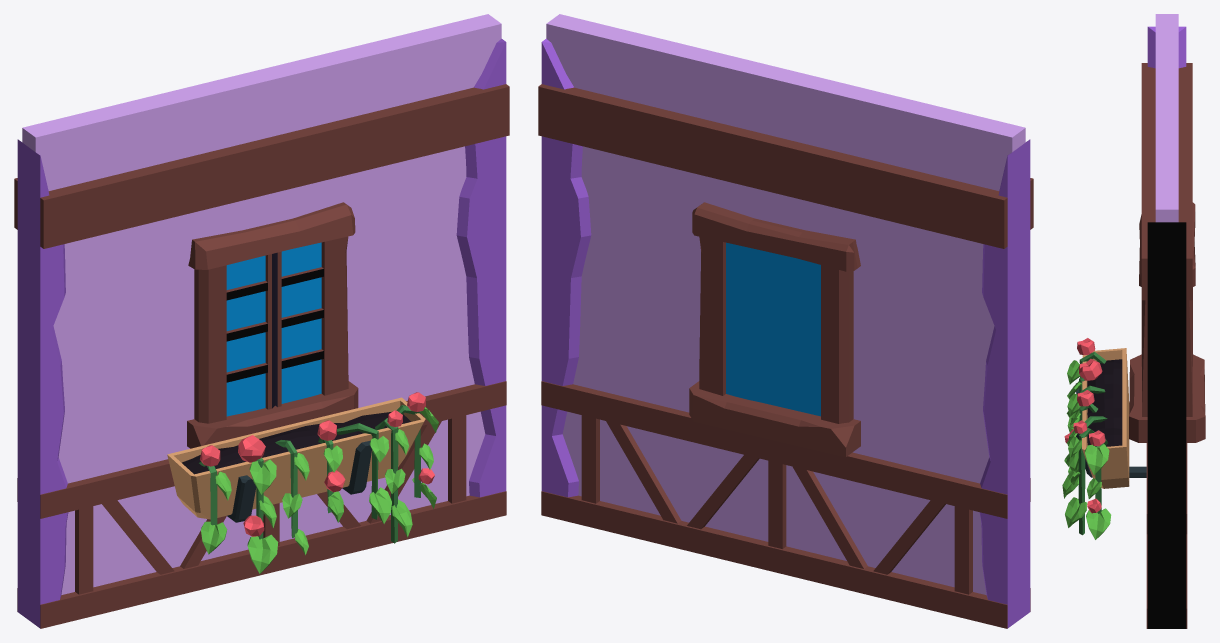
File: Modular Wall 06 MK2 W4.fbx
3 views of the same model, side by side, from view 1: azimuth 30°, elevation 25°; view 2: azimuth 150°, elevation 25°; view 3: azimuth 270°, elevation 25° (orthographic). The views are drawn at different scales.
Visible parts, largest first — view 1: Modular Wall 06 MK2 W4; view 2: Modular Wall 06 MK2 W4; view 3: Modular Wall 06 MK2 W4.
Boxes of the visible parts, bbox=[...] form: Modular Wall 06 MK2 W4: bbox=[14, 14, 509, 628]; Modular Wall 06 MK2 W4: bbox=[538, 14, 1033, 628]; Modular Wall 06 MK2 W4: bbox=[1062, 14, 1205, 628].
Size of the model in its own units: 400 by 400 by 124.
